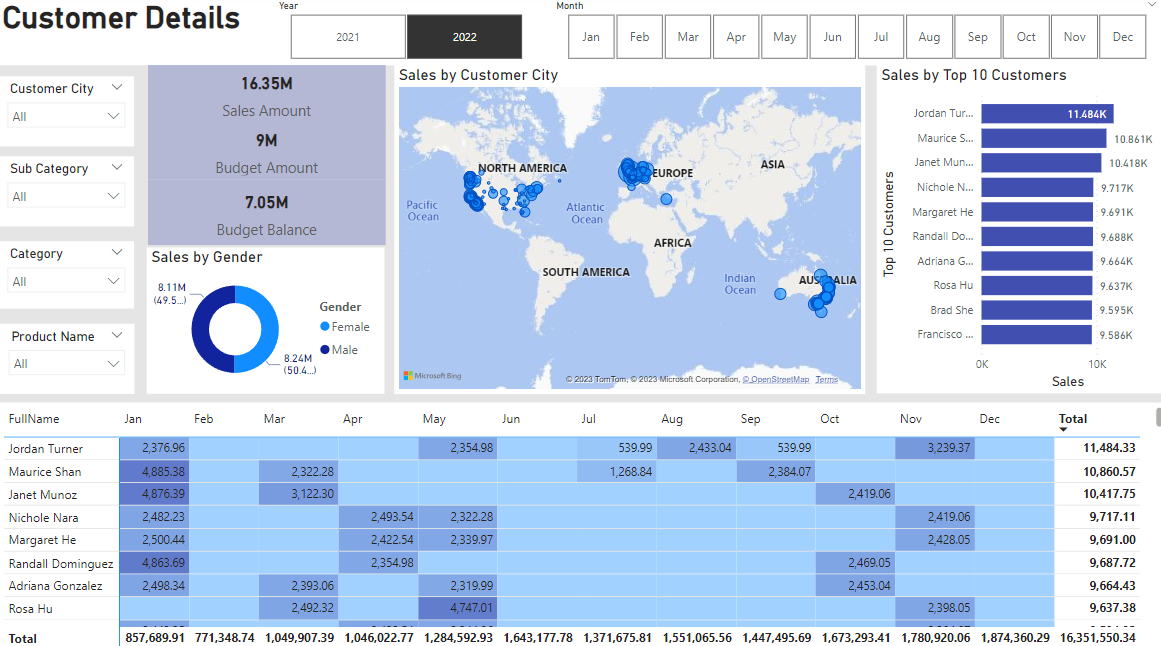

What the dashboard file says about the page in this screenshot:
{"tool":"powerbi","page":{"name":"Customer Details","canvas":[1280,720],"ordinal":1},"visuals":[{"type":"textbox","box":[0,0,1279.8,76.6],"z":0},{"type":"slicer","fields":{"Values":["DIM_Customers.Customer City"]},"box":[0,88.9,149,76.6],"z":1000},{"type":"slicer","fields":{"Values":["DIM_Products.Sub Category"]},"box":[0,176.4,149,76.6],"z":2000},{"type":"slicer","fields":{"Values":["DIM_Products.Product Category"]},"box":[0,269.4,149,73.8],"z":3000},{"type":"slicer","fields":{"Values":["DIM_Products.Product Name"]},"box":[1.4,359.6,147.7,76.6],"z":4000},{"type":"slicer","fields":{"Values":["DIM_Calendar.Year"]},"box":[294,0,303.5,76.6],"z":5000},{"type":"slicer","fields":{"Values":["DIM_Calendar.Month"]},"box":[597.5,0,682.3,76.6],"z":6000},{"type":"donutChart","fields":{"Y":["FCT_InternetSales.Sales"],"Series":["DIM_Customers.Gender"]},"box":[162.7,276.2,259.8,160],"z":7000},{"type":"barChart","fields":{"Category":["DIM_Customers.FullName"],"Y":["FCT_InternetSales.Sales"]},"box":[961.2,76.6,318.6,359.6],"z":8000},{"type":"pivotTable","fields":{"Rows":["DIM_Customers.FullName"],"Values":["FCT_InternetSales.Sales"],"Columns":["DIM_Calendar.Month"]},"box":[1.4,445.7,1278.4,274.8],"z":9000},{"type":"map","fields":{"Category":["DIM_Customers.Customer City"],"Size":["FCT_InternetSales.Sales"]},"box":[433.5,76.6,515.6,359.7],"z":10000},{"type":"card","fields":{"Values":["FCT_InternetSales.Sales"]},"box":[164.1,76.6,259.8,61.5],"z":11000},{"type":"card","fields":{"Values":["Budget.Budget Amount"]},"box":[164.1,138.1,259.8,64.3],"z":12000},{"type":"card","fields":{"Values":["Budget.Sales-Budget"]},"box":[164.1,202.4,259.8,71.1],"z":13000}]}

Visuals, with their boxes in screenshot pixels (x1, y1, x2, y2), scaled from the page's 1280x720 canvas onto the 1161x646 screenshot:
textbox: (0, 0, 1160, 69)
slicer - DIM_Customers.Customer City: (0, 80, 135, 148)
slicer - DIM_Products.Sub Category: (0, 158, 135, 227)
slicer - DIM_Products.Product Category: (0, 242, 135, 308)
slicer - DIM_Products.Product Name: (1, 323, 135, 391)
slicer - DIM_Calendar.Year: (267, 0, 542, 69)
slicer - DIM_Calendar.Month: (542, 0, 1160, 69)
donutChart - FCT_InternetSales.Sales x DIM_Customers.Gender: (148, 248, 383, 391)
barChart - DIM_Customers.FullName x FCT_InternetSales.Sales: (872, 69, 1160, 391)
pivotTable - DIM_Customers.FullName x FCT_InternetSales.Sales: (1, 400, 1160, 645)
map - DIM_Customers.Customer City x FCT_InternetSales.Sales: (393, 69, 861, 391)
card - FCT_InternetSales.Sales: (149, 69, 384, 124)
card - Budget.Budget Amount: (149, 124, 384, 182)
card - Budget.Sales-Budget: (149, 182, 384, 245)
